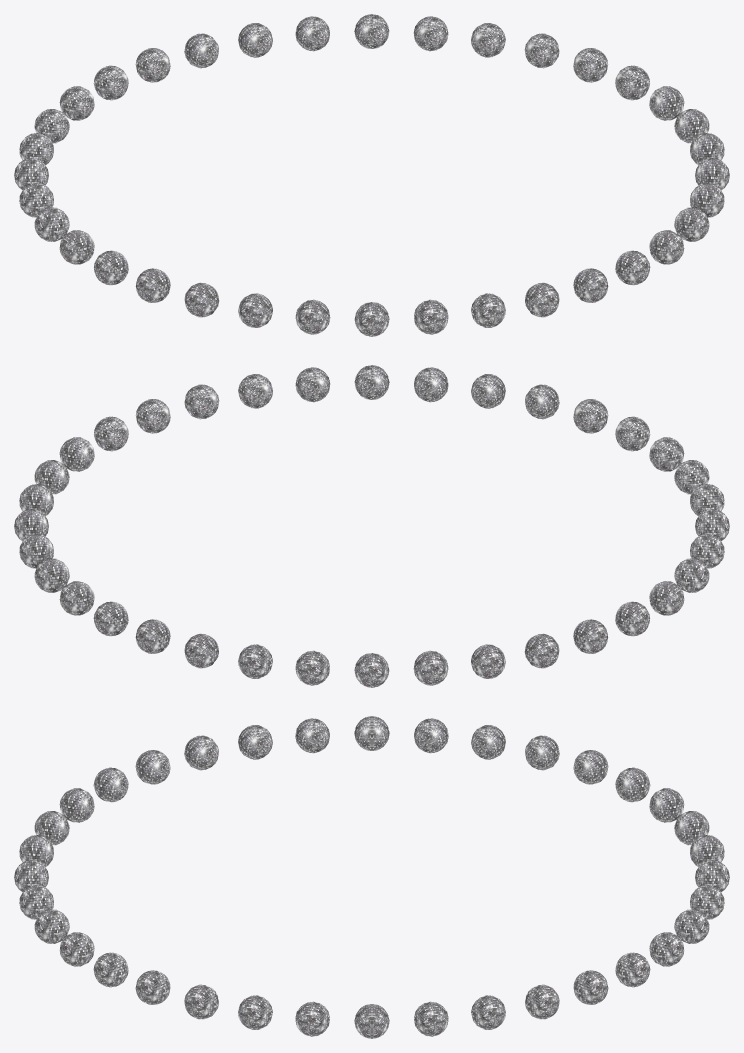
The model's file is lamp_dj_stages.glb.
The picture shows the model from 3 angles, top to bottom: view 1: azimuth 30°, elevation 25°; view 2: azimuth 150°, elevation 25°; view 3: azimuth 270°, elevation 25°; orthographic projection.
Parts seen in each view (by area): view 1: Lamp DJ Stages; view 2: Lamp DJ Stages; view 3: Lamp DJ Stages.
Part boxes in pixels (bbox=[...]): Lamp DJ Stages: bbox=[14, 14, 729, 336]; Lamp DJ Stages: bbox=[14, 365, 729, 687]; Lamp DJ Stages: bbox=[14, 716, 729, 1038].
Size of what is drawn, in the model's own units: 4.59 by 0.2252 by 4.59.
Materials: 1 (1 with a texture image).
